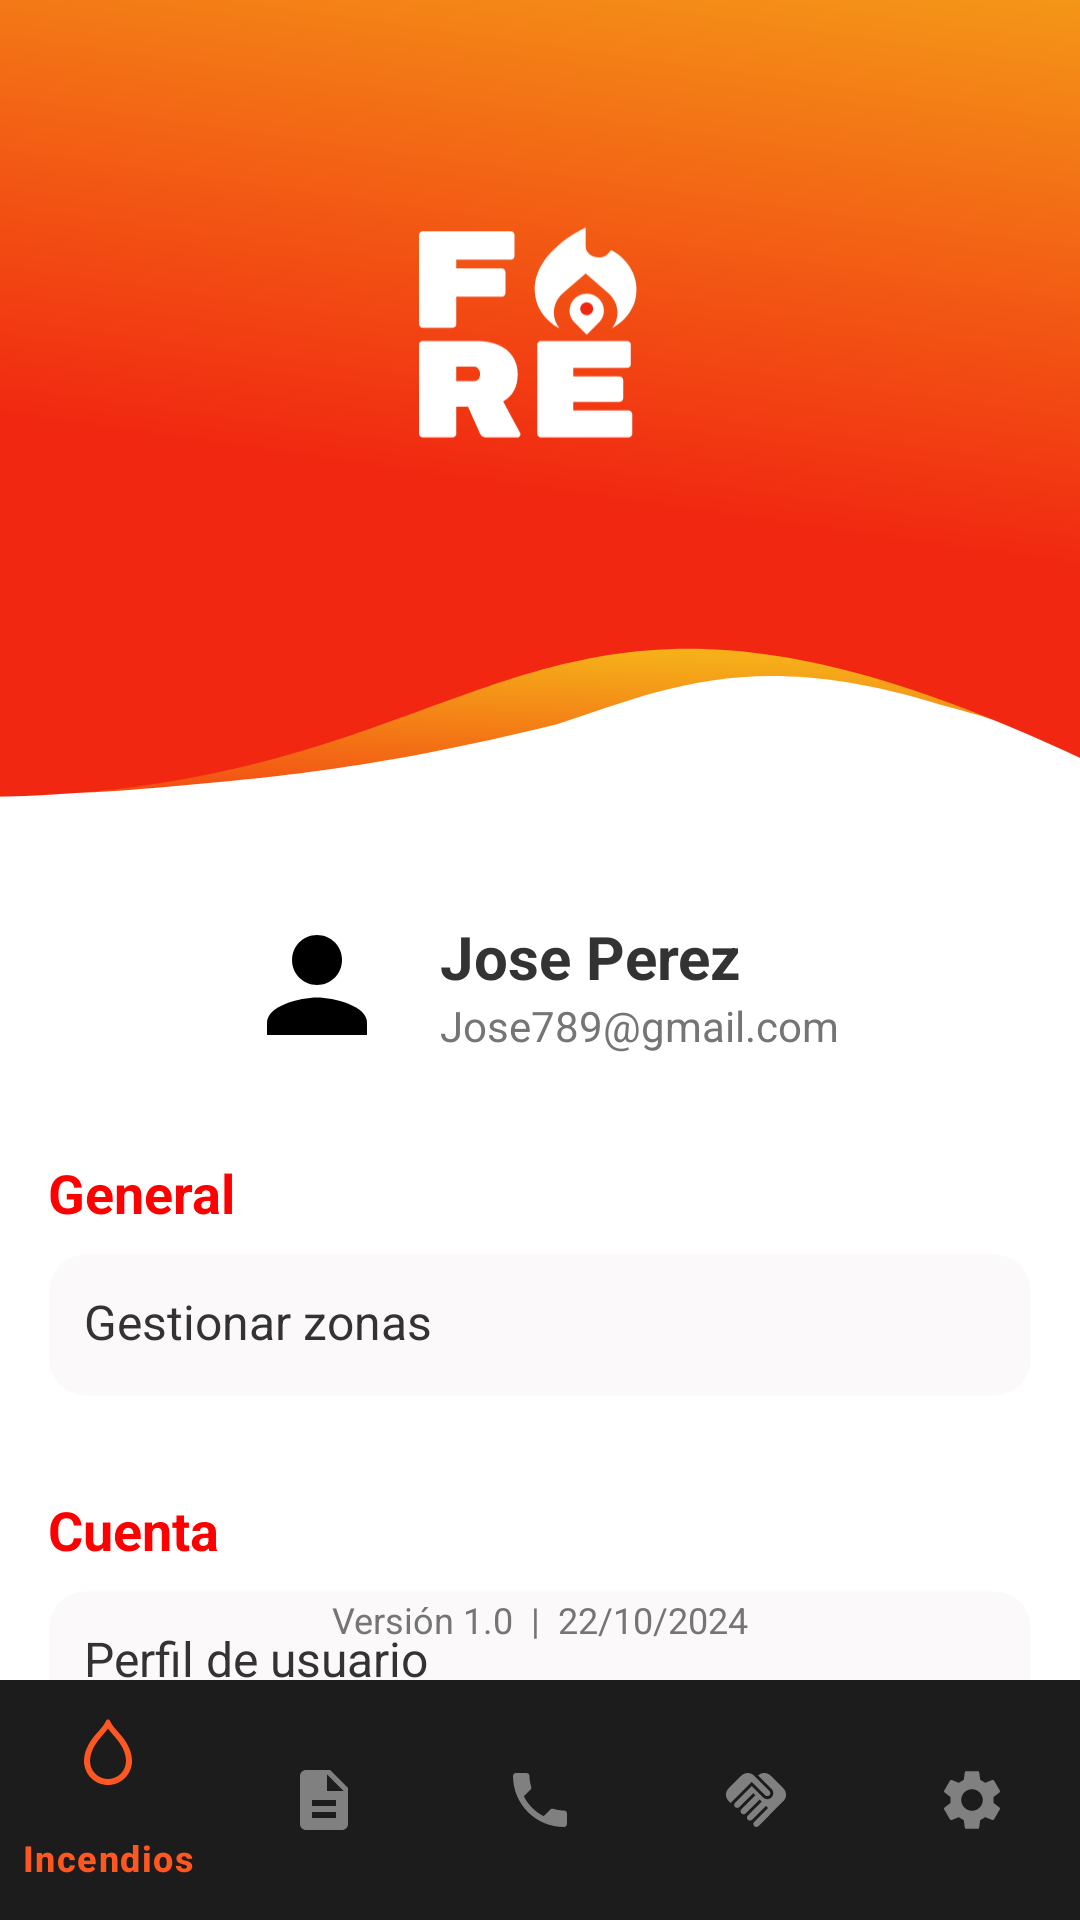

Icon bounding boxes for this 1080 x 1920 phone screenshot, format bbox=[x1, y1, x2, y2]:
user: bbox=[267, 935, 367, 1035]
